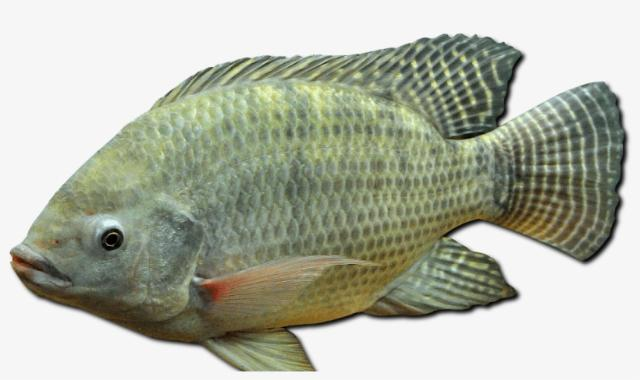Mulut: (0, 228, 86, 314)
Sirip Anal: (358, 229, 526, 332)
Sirip Dada: (179, 240, 393, 332)
Sirip Ekor: (479, 69, 637, 269)
Sirip Perut: (194, 322, 326, 378)
Sirip Punggung: (145, 20, 527, 144)
